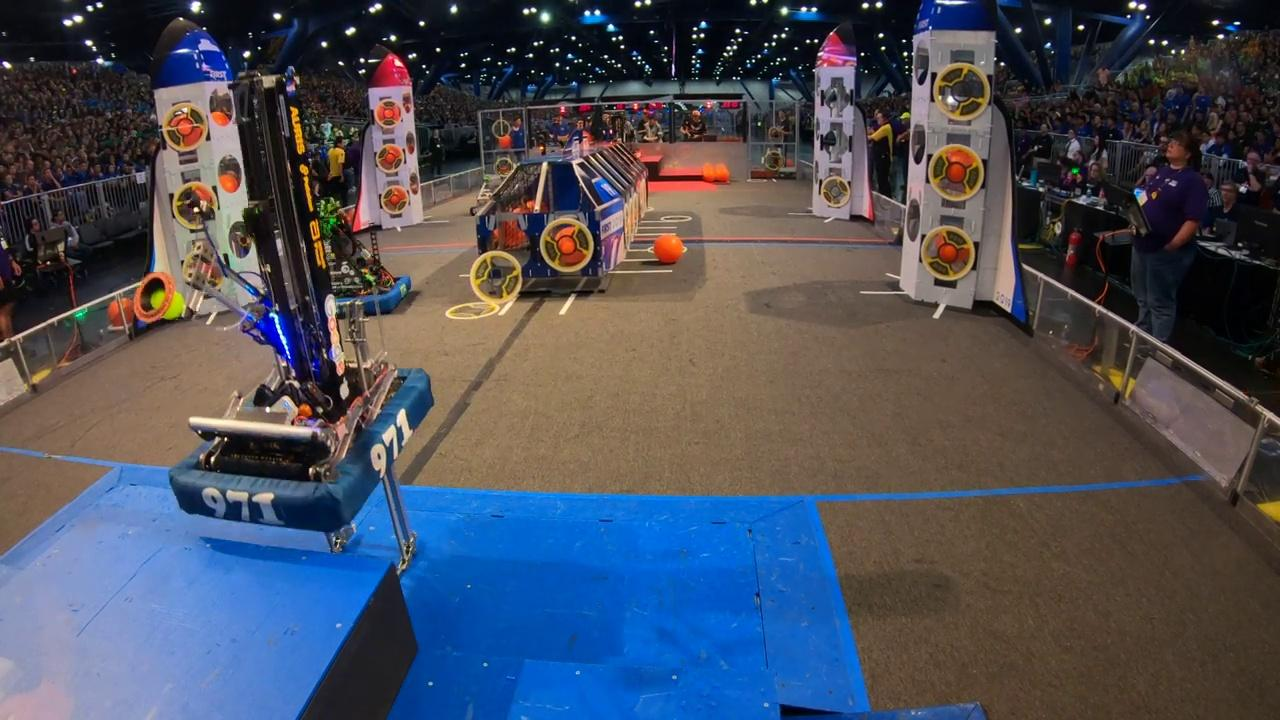robot: (169, 74, 436, 530)
